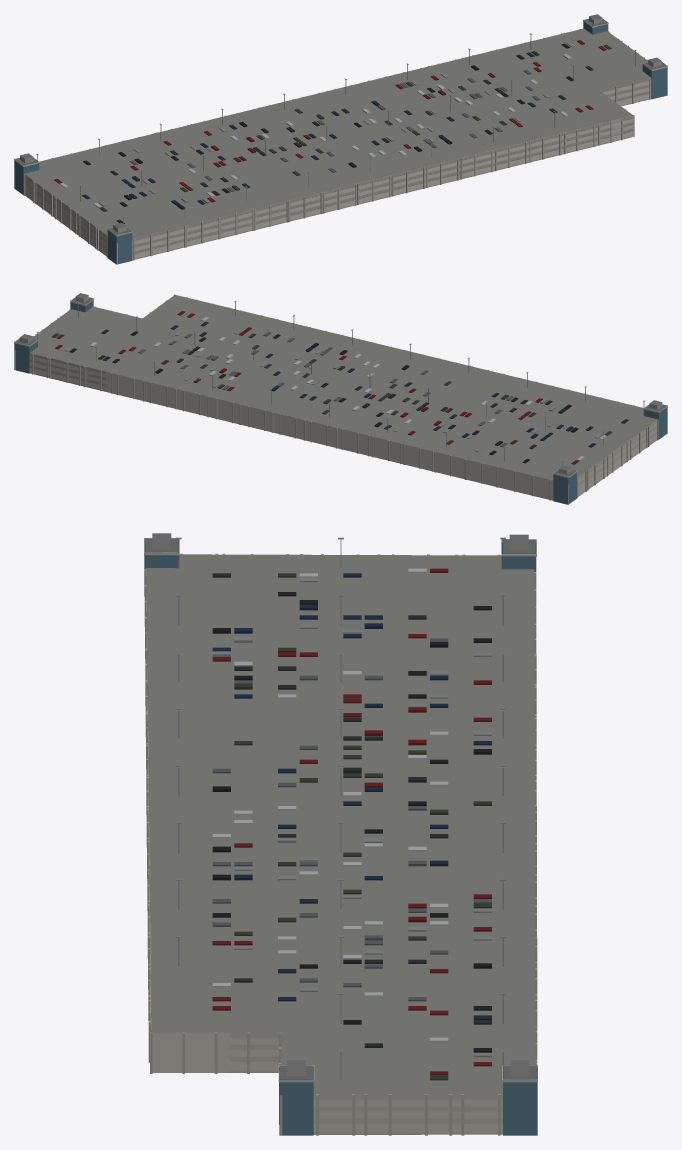
File: atl-south-daily-deck.glb
3 renders of one model, top to bottom at view 1: azimuth 30°, elevation 25°; view 2: azimuth 150°, elevation 25°; view 3: azimuth 270°, elevation 25°, orthographic. The views are drawn at different scales.
Parts seen in each view (by area): view 1: lod2_lm_stone, lod0_lm_stone, lod2_bld_wall, lod0_lm_metal, lod0_bld_glass, lod1_lm_stone; view 2: lod2_lm_stone, lod2_bld_wall, lod0_lm_metal, lod0_lm_stone, lod1_lm_stone, lod0_bld_glass; view 3: lod2_lm_stone, lod0_lm_metal, lod0_lm_stone, lod2_bld_wall, lod0_bld_glass, lod1_lm_stone.
Boxes of the visible parts, <box> form: lod2_lm_stone: <box>24,25,657,238</box>; lod0_lm_stone: <box>14,16,667,264</box>; lod2_bld_wall: <box>25,80,651,259</box>; lod0_lm_metal: <box>36,18,636,223</box>; lod0_bld_glass: <box>14,21,667,264</box>; lod1_lm_stone: <box>14,19,666,263</box>; lod2_lm_stone: <box>24,295,658,480</box>; lod2_bld_wall: <box>29,356,656,500</box>; lod0_lm_metal: <box>37,301,644,465</box>; lod0_lm_stone: <box>14,294,667,504</box>; lod1_lm_stone: <box>14,297,666,500</box>; lod0_bld_glass: <box>14,300,667,504</box>; lod2_lm_stone: <box>146,554,535,1094</box>; lod0_lm_metal: <box>176,537,505,1080</box>; lod0_lm_stone: <box>144,538,537,1135</box>; lod2_bld_wall: <box>146,581,502,1133</box>; lod0_bld_glass: <box>144,540,537,1135</box>; lod1_lm_stone: <box>144,538,537,1135</box>.
Size of the model in its own units: 315 by 19.04 by 96.67.
